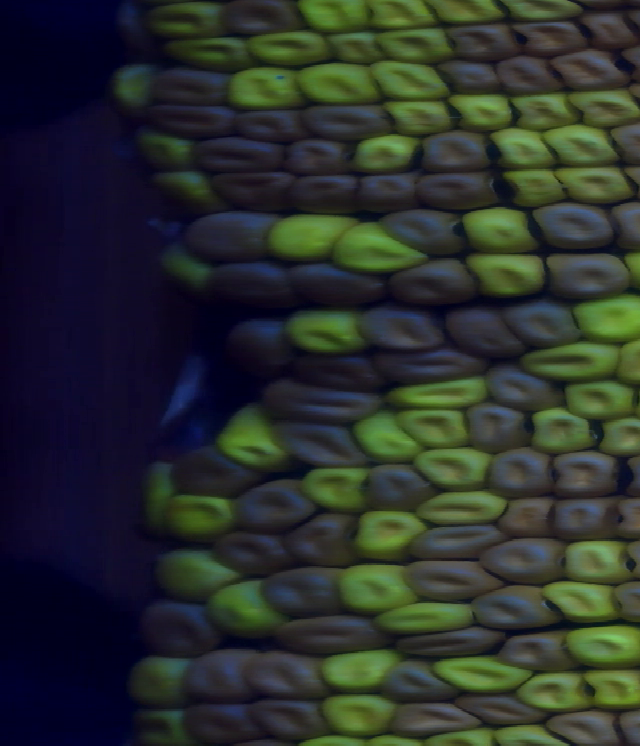fluorescent: (210, 395, 296, 479), (198, 575, 302, 643), (145, 544, 251, 610), (320, 218, 437, 277), (278, 300, 381, 363), (261, 207, 367, 267), (333, 558, 432, 620), (513, 335, 628, 386), (118, 650, 203, 715), (424, 650, 535, 699), (537, 575, 631, 632), (347, 505, 432, 568), (379, 370, 495, 416), (456, 201, 546, 260), (457, 248, 553, 303), (316, 643, 413, 697), (292, 56, 387, 110), (409, 483, 516, 530), (293, 463, 381, 520), (155, 30, 258, 78), (350, 407, 428, 470), (408, 444, 499, 497), (314, 690, 405, 743), (364, 56, 457, 107), (559, 532, 640, 590), (368, 599, 482, 640), (158, 490, 241, 545), (537, 120, 623, 173), (223, 62, 308, 115), (563, 287, 640, 345), (511, 665, 600, 715), (550, 160, 639, 209), (389, 404, 478, 452), (523, 403, 597, 460), (559, 375, 640, 427), (485, 123, 564, 176), (146, 166, 231, 215), (131, 456, 180, 541), (343, 130, 423, 182), (559, 622, 640, 673), (103, 57, 166, 121), (153, 236, 219, 297), (503, 88, 584, 137), (242, 28, 336, 70), (377, 93, 462, 139), (141, 1, 231, 44), (373, 23, 461, 66), (128, 125, 203, 175), (493, 165, 574, 211), (445, 88, 517, 137), (562, 84, 640, 129), (574, 665, 640, 717), (289, 1, 381, 37), (127, 703, 199, 746), (357, 1, 442, 37), (321, 27, 391, 67), (418, 1, 510, 29), (593, 410, 640, 462), (488, 720, 568, 746)
nonfluorescent: (256, 370, 394, 431), (198, 253, 306, 316), (265, 608, 395, 660), (177, 203, 281, 267), (130, 595, 225, 665), (264, 414, 373, 475), (281, 256, 391, 316), (217, 310, 303, 386), (538, 246, 640, 310), (351, 296, 453, 360), (397, 554, 509, 612), (254, 562, 355, 625), (528, 194, 624, 260), (438, 299, 534, 365), (164, 440, 264, 503), (238, 646, 338, 708), (467, 580, 569, 639), (387, 253, 487, 313), (370, 342, 490, 390), (224, 476, 318, 537), (386, 621, 515, 665), (208, 525, 303, 584), (477, 533, 573, 591), (478, 358, 575, 415), (176, 645, 261, 710), (200, 165, 304, 218), (403, 514, 511, 565), (376, 205, 474, 261), (278, 508, 364, 571), (448, 682, 552, 734), (374, 654, 468, 710), (499, 294, 584, 355), (286, 347, 393, 395), (183, 133, 289, 179), (361, 457, 443, 516), (382, 695, 487, 741), (546, 445, 626, 505), (543, 45, 638, 95), (297, 101, 398, 148), (136, 100, 246, 143), (411, 166, 507, 215), (491, 628, 583, 679), (248, 695, 340, 746), (459, 399, 537, 459), (546, 492, 632, 546), (178, 697, 272, 746), (481, 444, 558, 502), (282, 167, 364, 220), (144, 65, 238, 110), (440, 19, 524, 69), (104, 1, 169, 65), (348, 167, 427, 219), (214, 1, 310, 43), (417, 127, 496, 178), (491, 50, 565, 102), (228, 105, 317, 148), (276, 134, 356, 181), (507, 16, 592, 60), (541, 705, 627, 746), (497, 490, 561, 545), (435, 55, 508, 103), (571, 7, 640, 53), (605, 193, 640, 256), (608, 575, 640, 633), (605, 119, 640, 171), (608, 491, 640, 544)
